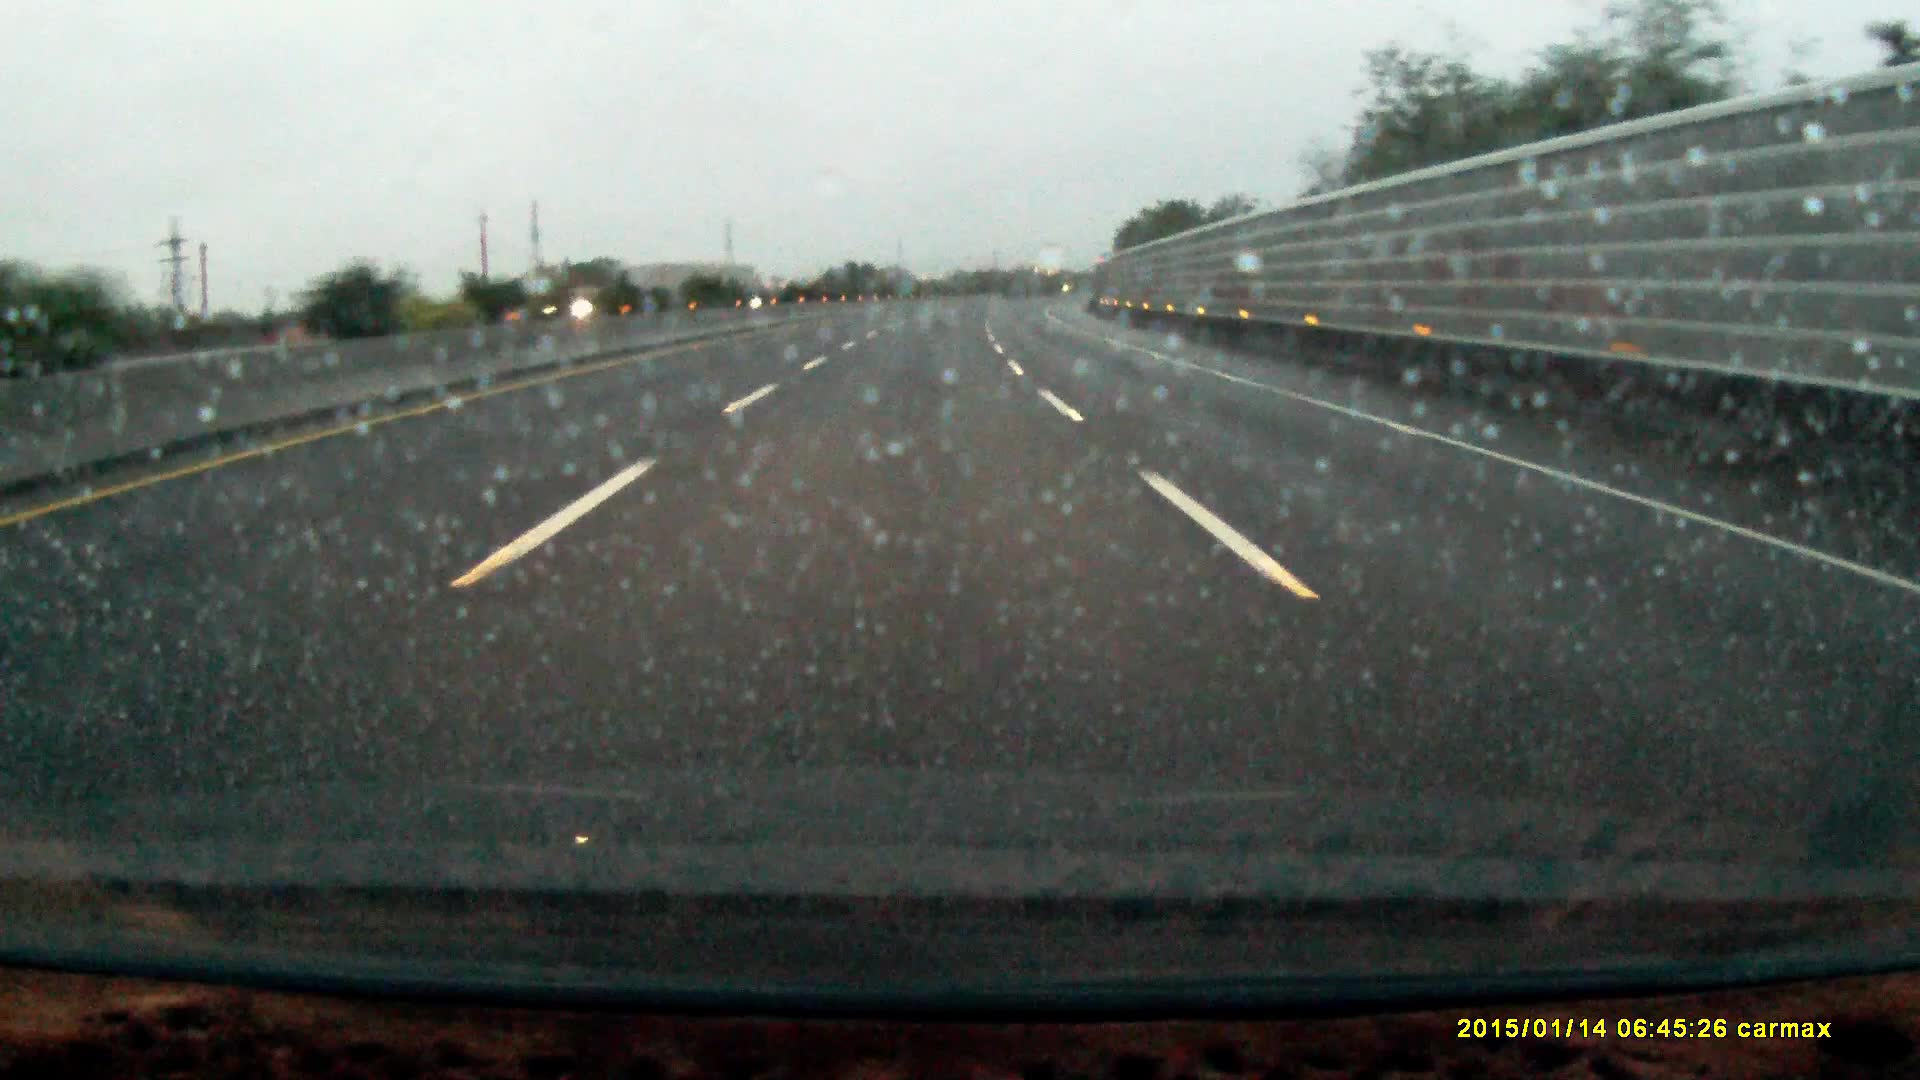vehicle: (542, 284, 615, 319)
